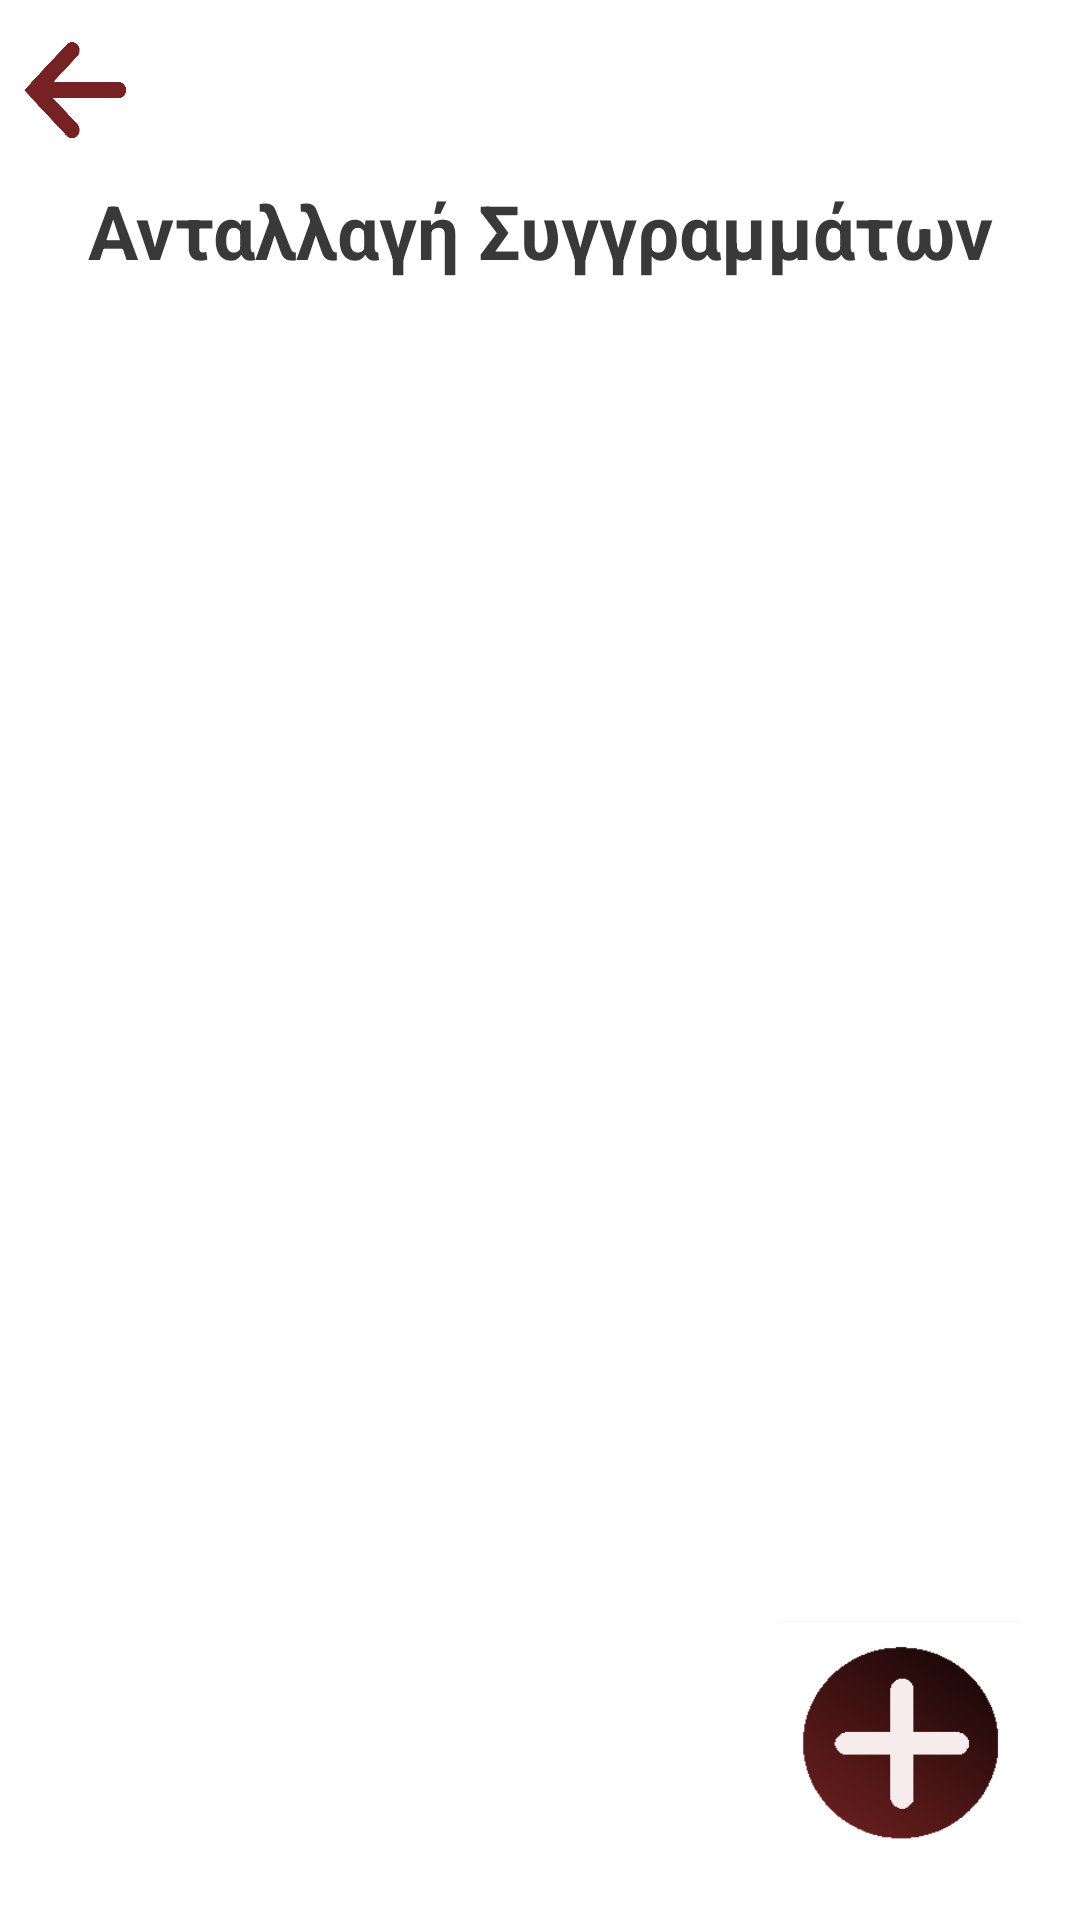

Icon bounding boxes for this 1080 × 1920 phone screenshot, format (x1, y1, x2, y2):
back: (24, 42, 126, 138)
plus: (803, 1647, 998, 1839)
